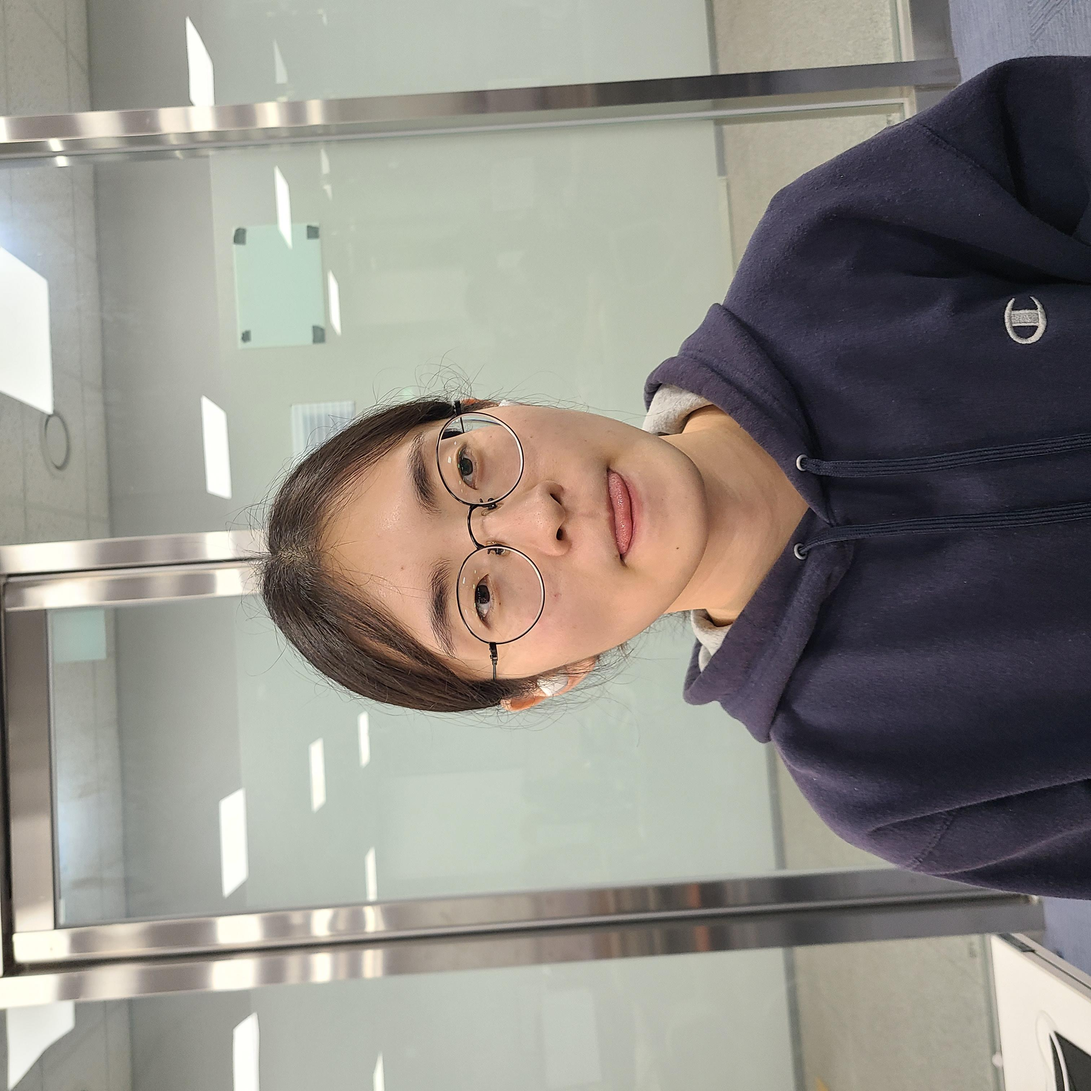earphone: (387, 536, 438, 581)
